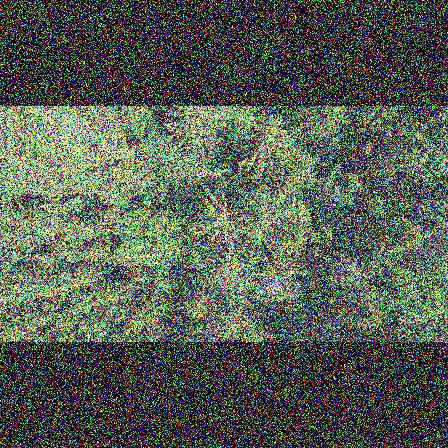Sick: (256, 260, 298, 303)
